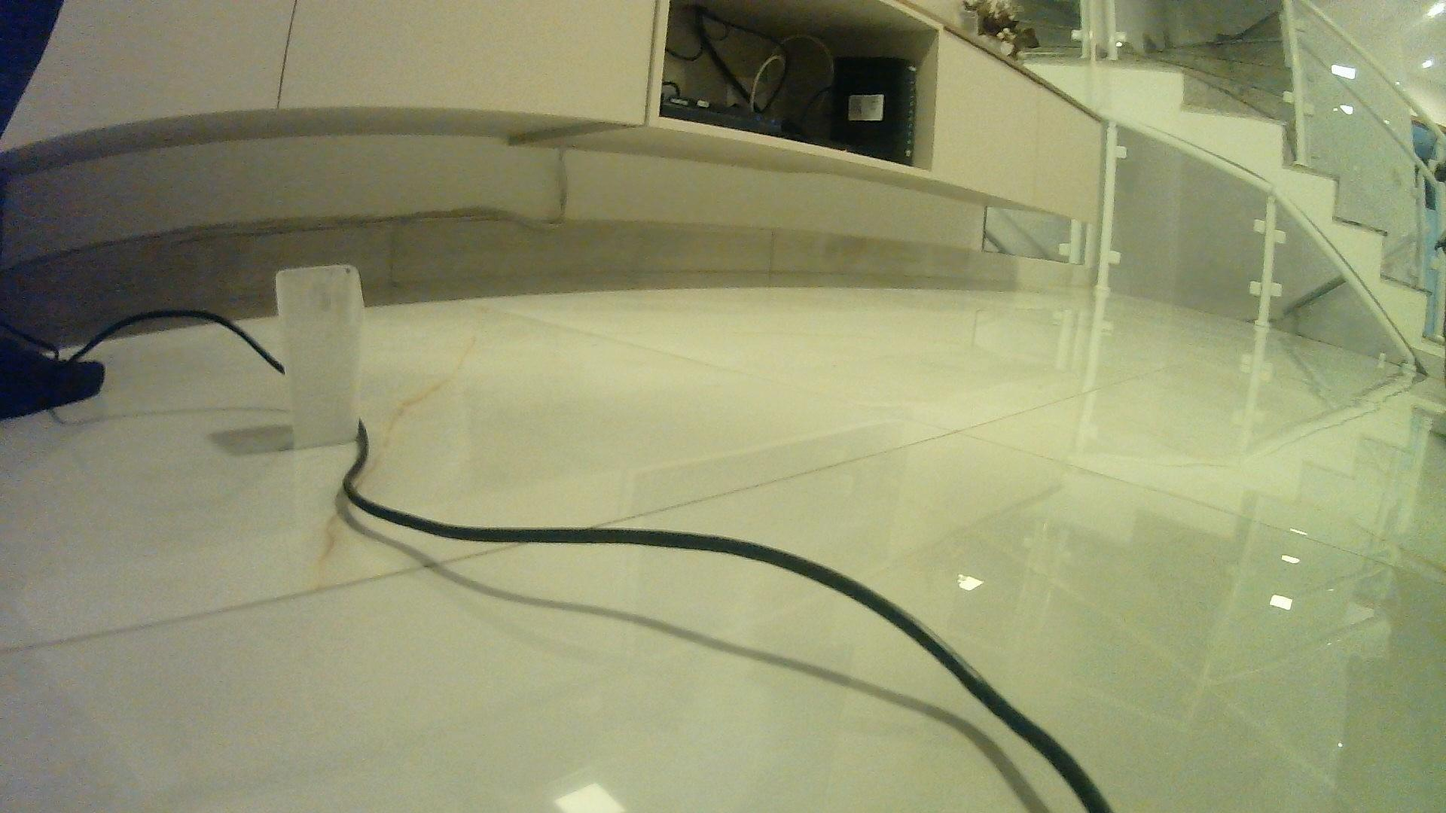erva_daninha: (270, 260, 369, 452)
